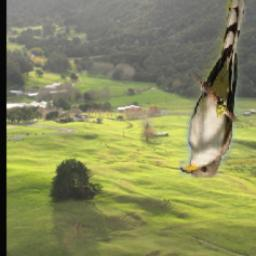Cuckoo: (179, 0, 246, 179)
